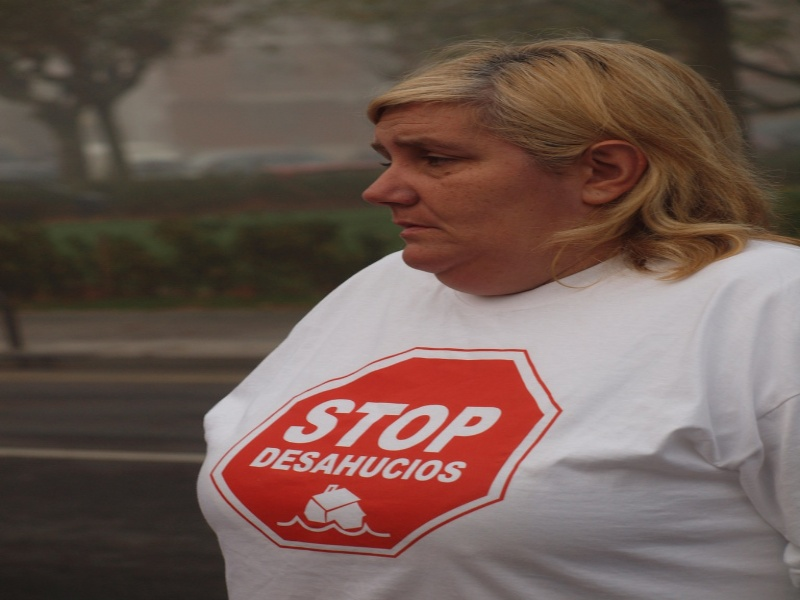stop: (204, 341, 568, 560)
